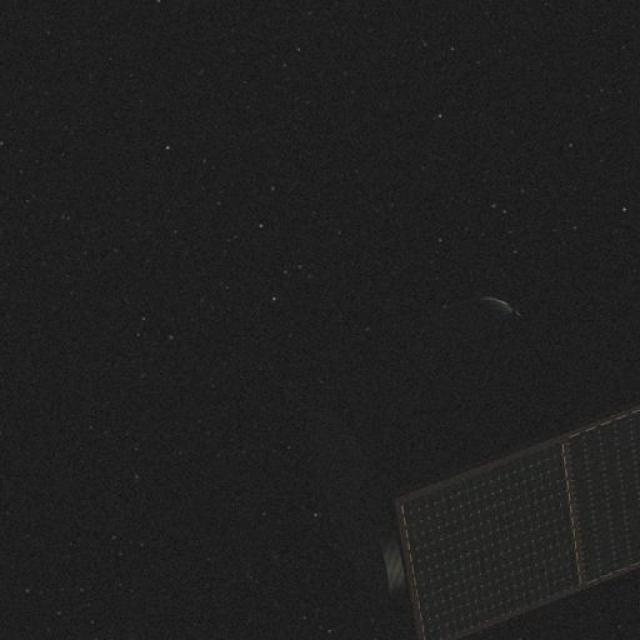cheops: (328, 275, 634, 640)
